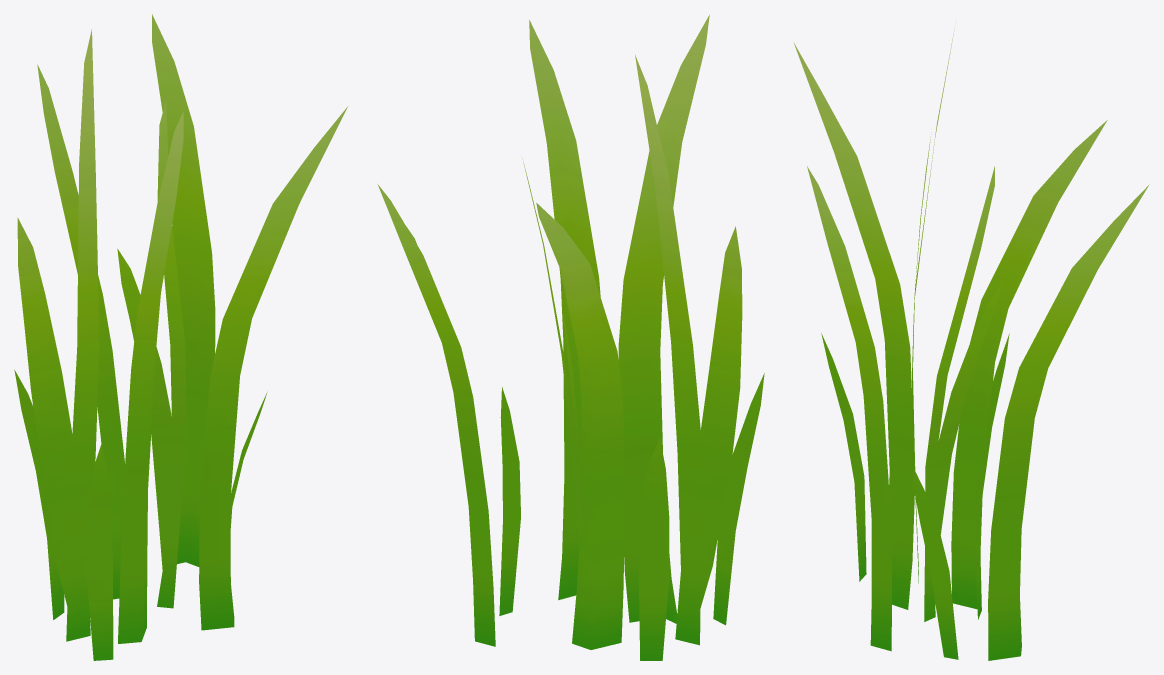
File: grass_common_short.gltf
The picture shows the model from 3 angles, left to right: view 1: azimuth 30°, elevation 25°; view 2: azimuth 150°, elevation 25°; view 3: azimuth 270°, elevation 25°; orthographic projection. The views are drawn at different scales.
Visible parts, largest first — view 1: grass_common_short; view 2: grass_common_short; view 3: grass_common_short.
Part boxes in pixels (box(x1,y1,x2,y2)): grass_common_short: box(14, 14, 347, 660); grass_common_short: box(377, 14, 764, 660); grass_common_short: box(793, 27, 1149, 660).
Size of the model in its own units: 0.6389 by 1.33 by 0.7373.
Materials: 1 (1 with a texture image).
